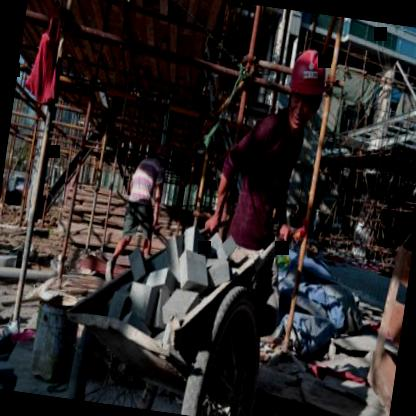helmet: (277, 44, 331, 132), (149, 138, 173, 171)
